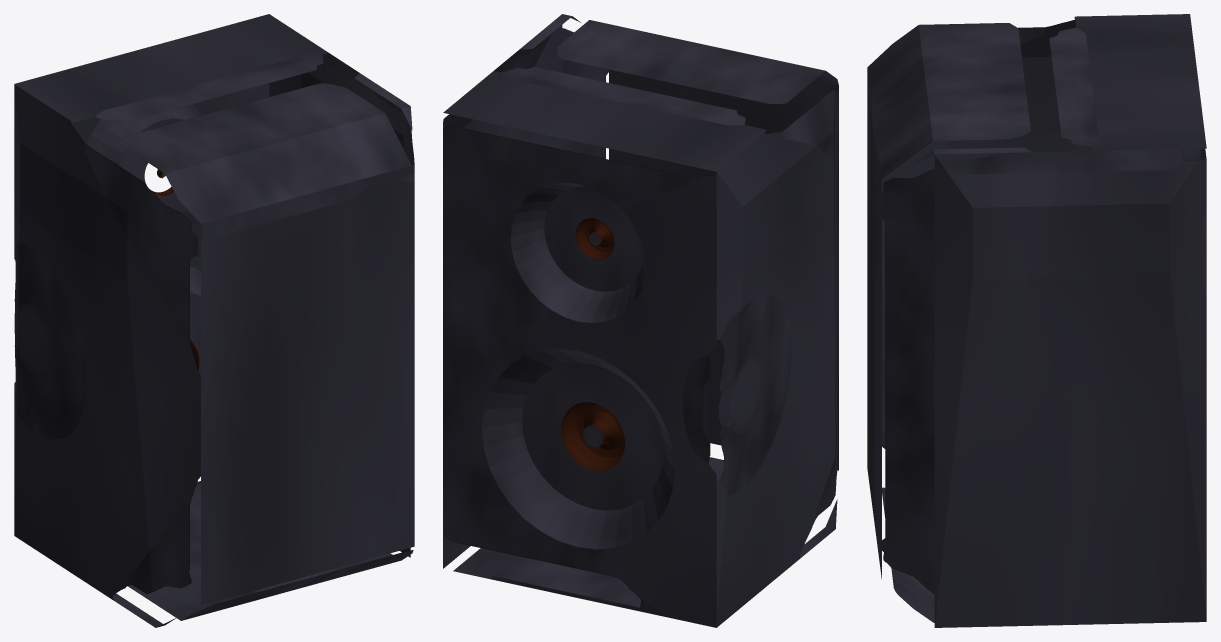
File: bocina.obj
3 views of the same model, side by side, from view 1: azimuth 30°, elevation 25°; view 2: azimuth 150°, elevation 25°; view 3: azimuth 270°, elevation 25° (orthographic). The views are drawn at different scales.
Parts seen in each view (by area): view 1: Bocina; view 2: Bocina; view 3: Bocina.
Boxes of the visible parts, left/top/right/bottom form: Bocina: left=14, top=14, right=414, bottom=627; Bocina: left=443, top=14, right=838, bottom=627; Bocina: left=867, top=14, right=1206, bottom=627.
Size of the model in its own units: 2.63 by 3.84 by 2.49.
2 materials, 1 textured.
